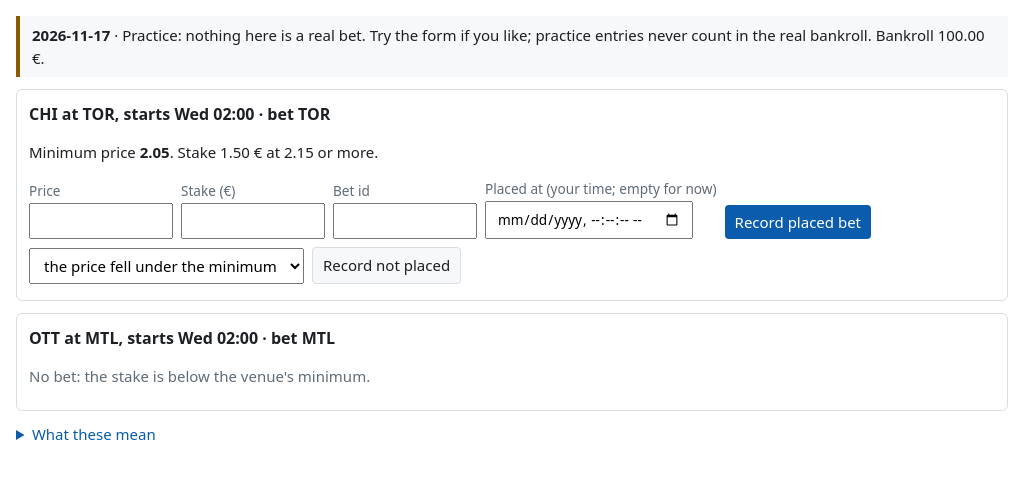
it: a placed bet is sent as the migration takes it and shown once read back
The image size is (1024, 502).
Type "2.10" into the number field labelled "Price". click: (101, 221)
box: left=29, top=203, right=173, bottom=239
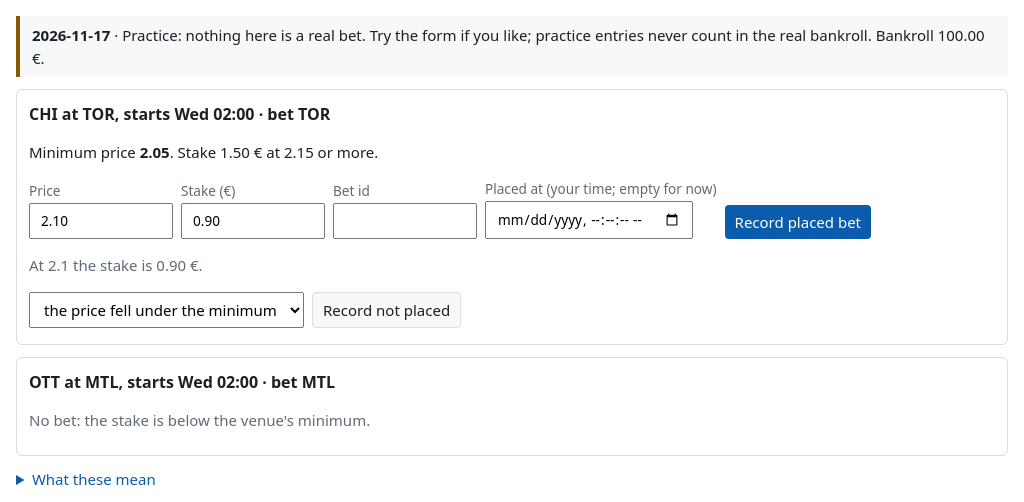
Type " P1 " into the field labelled "Bet id". click: (405, 221)
box: left=333, top=203, right=477, bottom=239
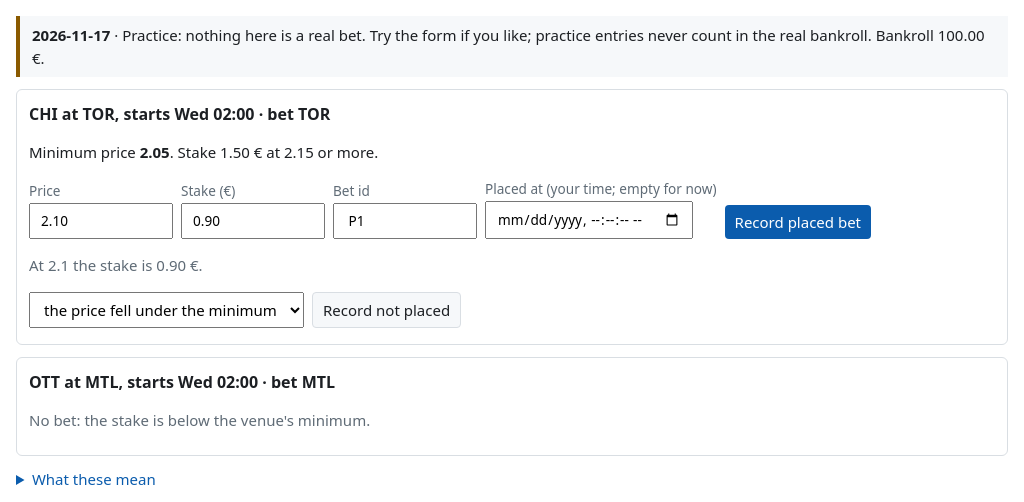
Click the button "Record placed bet". click: (798, 222)
box: left=724, top=205, right=871, bottom=239
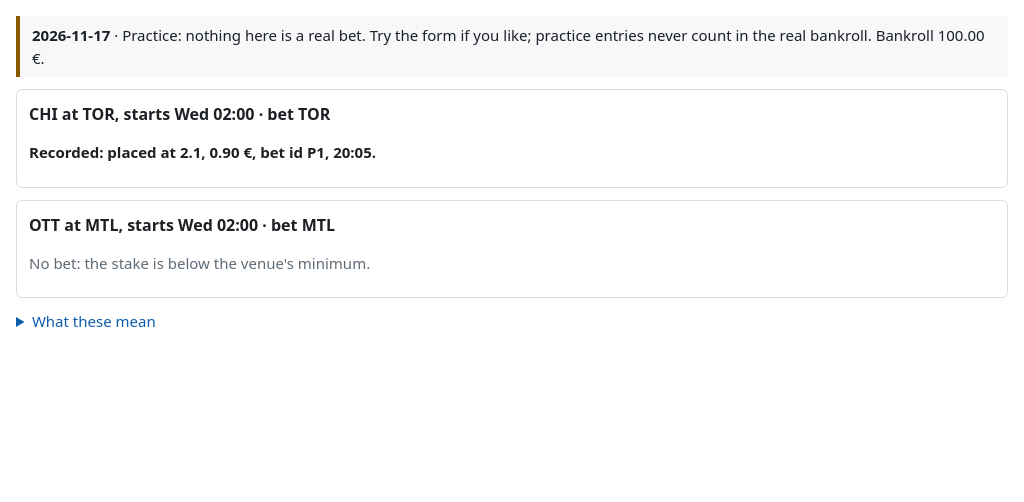
Check: the text "Recorded: placed at 2.1, 0.90 €, bet id P1, 20:05." is shown, box left=29, top=142, right=376, bottom=162
